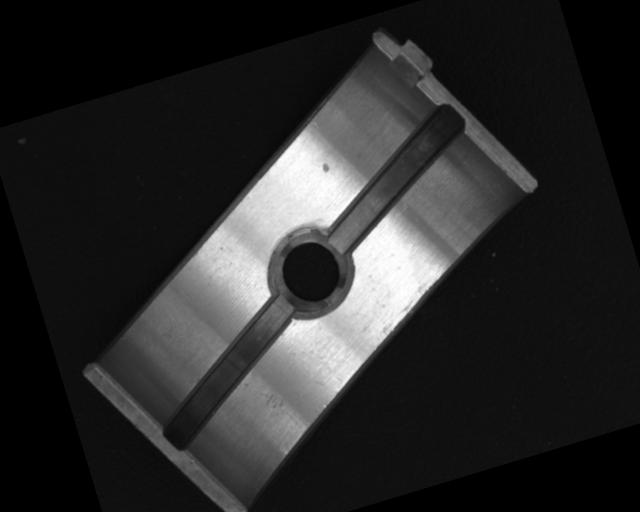bruise: (318, 160, 331, 173)
gap: (134, 293, 321, 452), (303, 101, 490, 257)
hole: (263, 224, 353, 321)
